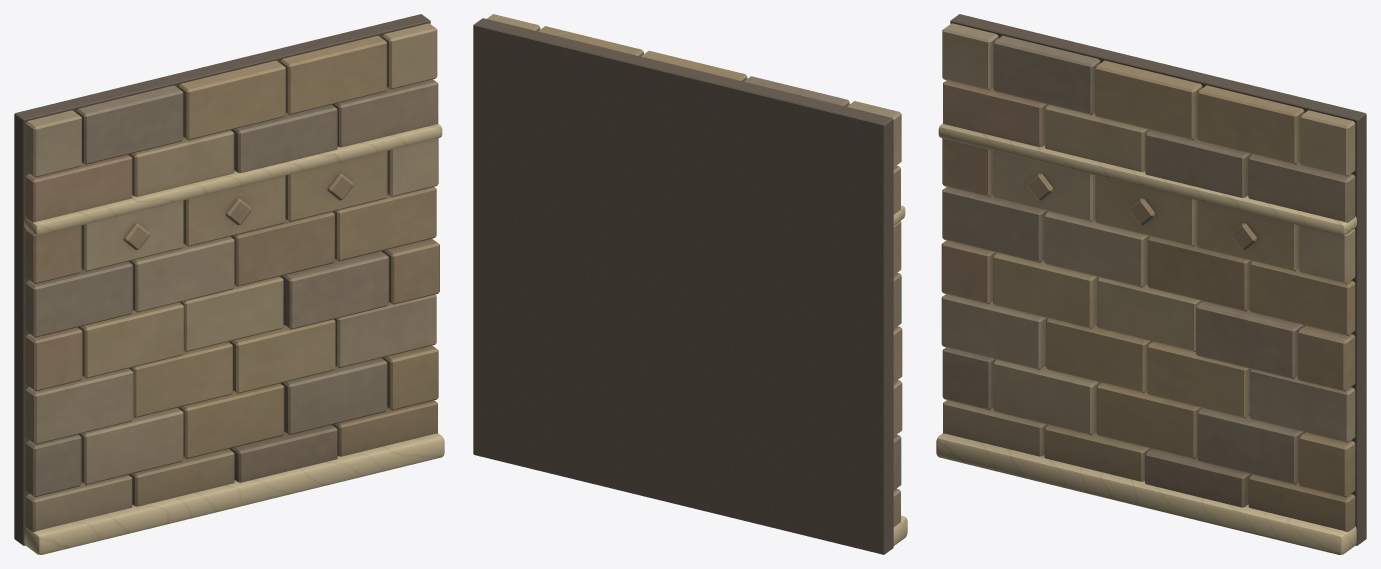
File: wall_panel.glb
3 renders of one model, left to right at view 1: azimuth 30°, elevation 25°; view 2: azimuth 150°, elevation 25°; view 3: azimuth 330°, elevation 25°, orthographic.
Parts seen in each view (by area): view 1: wall_panel; view 2: wall_panel; view 3: wall_panel.
Part boxes in pixels (bbox=[...]): wall_panel: bbox=[14, 14, 444, 554]; wall_panel: bbox=[473, 14, 907, 554]; wall_panel: bbox=[936, 14, 1366, 554].
Bounding box in the file's own units: 4 × 4 × 0.42.
1 material, 1 textured.
